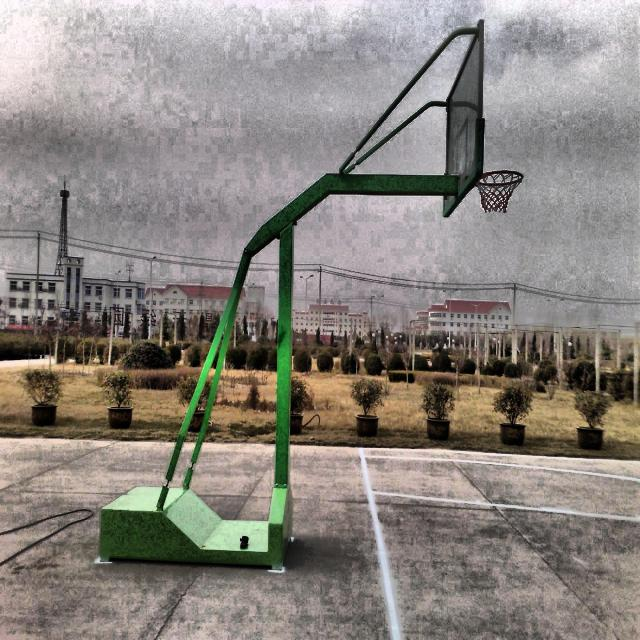rim: (481, 169, 524, 214)
